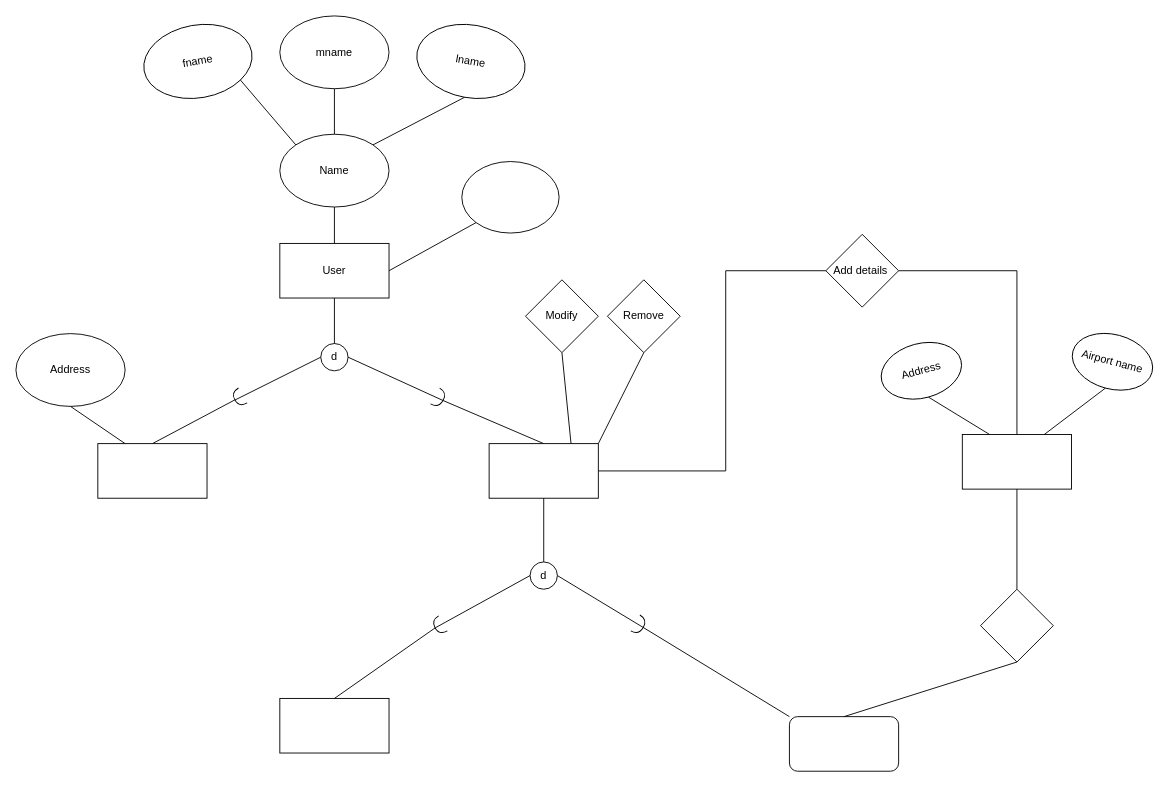
This 1176x787 diagram has some shape labels left out. Here are the shapes that lost their labels. From the top down, the centre of each, then its label:
(x=510, y=197): ssn
(x=152, y=470): Admin
(x=543, y=470): Staff
(x=1016, y=461): Airport
(x=334, y=725): Technician
(x=844, y=743): Traffic controller
